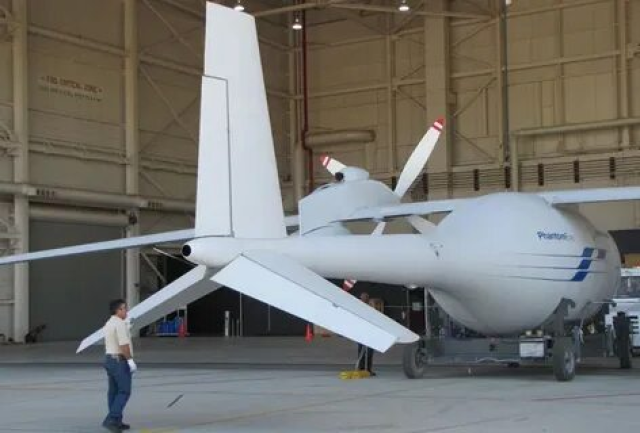military drone: (0, 1, 640, 381)
